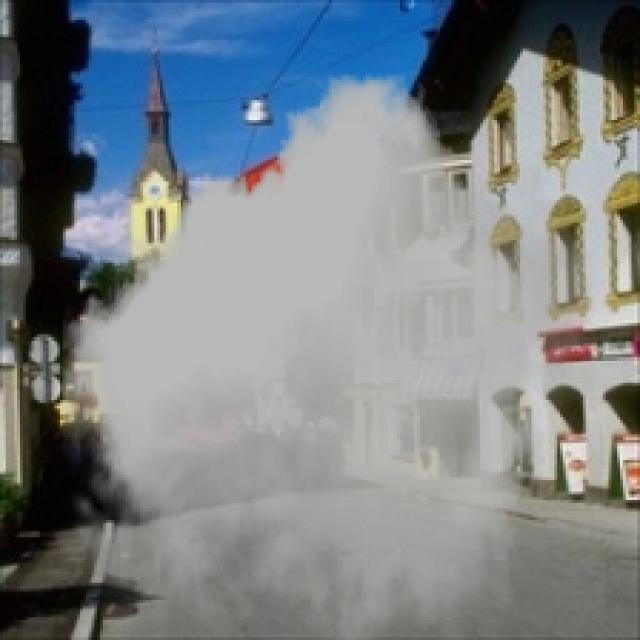smoke: (54, 74, 609, 637)
